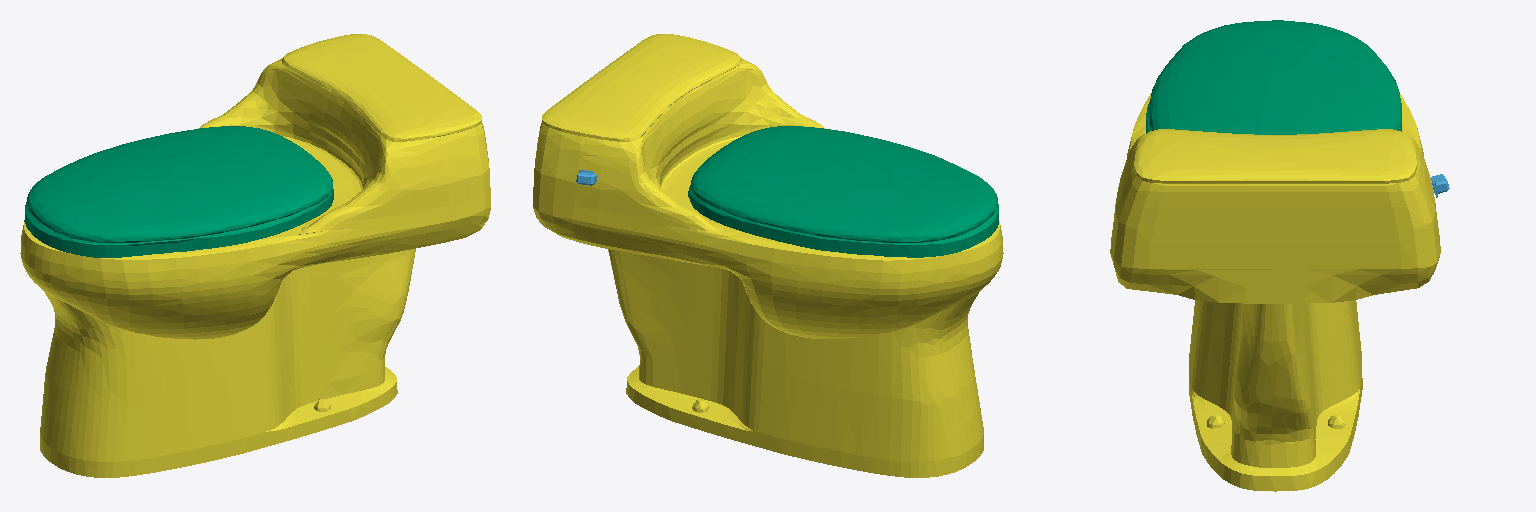
URDF robot description (partnet_8c511b8efe2347c83321831d2245cf06):
<robot name="partnet_8c511b8efe2347c83321831d2245cf06">
	<link name="base" />
	<link name="link_0">
		<collision>
			<origin xyz="0.03907445210681367 -0.192080672073679 0.5854682924927025" />
			<geometry>
				<mesh filename="new_objs/102666_link_0_4.obj" />
			</geometry>
		</collision>
	<collision>
			<origin xyz="0.03907445210681367 -0.192080672073679 0.5854682924927025" />
			<geometry>
				<mesh filename="new_objs/102666_link_0_3.obj" />
			</geometry>
		</collision>
	<collision>
			<origin xyz="0.03907445210681367 -0.192080672073679 0.5854682924927025" />
			<geometry>
				<mesh filename="new_objs/102666_link_0_1.obj" />
			</geometry>
		</collision>
	<collision>
			<origin xyz="0.03907445210681367 -0.192080672073679 0.5854682924927025" />
			<geometry>
				<mesh filename="new_objs/102666_link_0_0.obj" />
			</geometry>
		</collision>
	<collision>
			<origin xyz="0.03907445210681367 -0.192080672073679 0.5854682924927025" />
			<geometry>
				<mesh filename="new_objs/102666_link_0_2.obj" />
			</geometry>
		</collision>
	<visual name="button-part[&quot;id]">
			<origin xyz="0.03907445210681367 -0.192080672073679 0.5854682924927025" />
			<geometry>
				<mesh filename="textured_objs/original-6.obj" />
			</geometry>
		</visual>
		</link>
	<joint name="joint_0" type="revolute">
		<origin xyz="-0.03907445210681367 0.192080672073679 -0.5854682924927025" />
		<axis xyz="0.9398329998883672 -0.3010537654331707 -0.16149477588870217" />
		<child link="link_0" />
		<parent link="link_2" />
		<limit lower="0.0" upper="1.710422666954443" />
	</joint>
	<link name="link_1">
		<collision>
			<origin xyz="0 -0.23803463321864132 0.25666695559583574" />
			<geometry>
				<mesh filename="new_objs/102666_link_1_8.obj" />
			</geometry>
		</collision>
	<collision>
			<origin xyz="0 -0.23803463321864132 0.25666695559583574" />
			<geometry>
				<mesh filename="new_objs/102666_link_1_36.obj" />
			</geometry>
		</collision>
	<collision>
			<origin xyz="0 -0.23803463321864132 0.25666695559583574" />
			<geometry>
				<mesh filename="new_objs/102666_link_1_1.obj" />
			</geometry>
		</collision>
	<collision>
			<origin xyz="0 -0.23803463321864132 0.25666695559583574" />
			<geometry>
				<mesh filename="new_objs/102666_link_1_52.obj" />
			</geometry>
		</collision>
	<collision>
			<origin xyz="0 -0.23803463321864132 0.25666695559583574" />
			<geometry>
				<mesh filename="new_objs/102666_link_1_2.obj" />
			</geometry>
		</collision>
	<collision>
			<origin xyz="0 -0.23803463321864132 0.25666695559583574" />
			<geometry>
				<mesh filename="new_objs/102666_link_1_51.obj" />
			</geometry>
		</collision>
	<collision>
			<origin xyz="0 -0.23803463321864132 0.25666695559583574" />
			<geometry>
				<mesh filename="new_objs/102666_link_1_34.obj" />
			</geometry>
		</collision>
	<collision>
			<origin xyz="0 -0.23803463321864132 0.25666695559583574" />
			<geometry>
				<mesh filename="new_objs/102666_link_1_15.obj" />
			</geometry>
		</collision>
	<collision>
			<origin xyz="0 -0.23803463321864132 0.25666695559583574" />
			<geometry>
				<mesh filename="new_objs/102666_link_1_31.obj" />
			</geometry>
		</collision>
	<collision>
			<origin xyz="0 -0.23803463321864132 0.25666695559583574" />
			<geometry>
				<mesh filename="new_objs/102666_link_1_19.obj" />
			</geometry>
		</collision>
	<collision>
			<origin xyz="0 -0.23803463321864132 0.25666695559583574" />
			<geometry>
				<mesh filename="new_objs/102666_link_1_12.obj" />
			</geometry>
		</collision>
	<collision>
			<origin xyz="0 -0.23803463321864132 0.25666695559583574" />
			<geometry>
				<mesh filename="new_objs/102666_link_1_41.obj" />
			</geometry>
		</collision>
	<collision>
			<origin xyz="0 -0.23803463321864132 0.25666695559583574" />
			<geometry>
				<mesh filename="new_objs/102666_link_1_17.obj" />
			</geometry>
		</collision>
	<collision>
			<origin xyz="0 -0.23803463321864132 0.25666695559583574" />
			<geometry>
				<mesh filename="new_objs/102666_link_1_14.obj" />
			</geometry>
		</collision>
	<collision>
			<origin xyz="0 -0.23803463321864132 0.25666695559583574" />
			<geometry>
				<mesh filename="new_objs/102666_link_1_38.obj" />
			</geometry>
		</collision>
	<collision>
			<origin xyz="0 -0.23803463321864132 0.25666695559583574" />
			<geometry>
				<mesh filename="new_objs/102666_link_1_47.obj" />
			</geometry>
		</collision>
	<collision>
			<origin xyz="0 -0.23803463321864132 0.25666695559583574" />
			<geometry>
				<mesh filename="new_objs/102666_link_1_48.obj" />
			</geometry>
		</collision>
	<collision>
			<origin xyz="0 -0.23803463321864132 0.25666695559583574" />
			<geometry>
				<mesh filename="new_objs/102666_link_1_20.obj" />
			</geometry>
		</collision>
	<collision>
			<origin xyz="0 -0.23803463321864132 0.25666695559583574" />
			<geometry>
				<mesh filename="new_objs/102666_link_1_35.obj" />
			</geometry>
		</collision>
	<collision>
			<origin xyz="0 -0.23803463321864132 0.25666695559583574" />
			<geometry>
				<mesh filename="new_objs/102666_link_1_32.obj" />
			</geometry>
		</collision>
	<collision>
			<origin xyz="0 -0.23803463321864132 0.25666695559583574" />
			<geometry>
				<mesh filename="new_objs/102666_link_1_29.obj" />
			</geometry>
		</collision>
	<collision>
			<origin xyz="0 -0.23803463321864132 0.25666695559583574" />
			<geometry>
				<mesh filename="new_objs/102666_link_1_24.obj" />
			</geometry>
		</collision>
	<collision>
			<origin xyz="0 -0.23803463321864132 0.25666695559583574" />
			<geometry>
				<mesh filename="new_objs/102666_link_1_16.obj" />
			</geometry>
		</collision>
	<collision>
			<origin xyz="0 -0.23803463321864132 0.25666695559583574" />
			<geometry>
				<mesh filename="new_objs/102666_link_1_11.obj" />
			</geometry>
		</collision>
	<collision>
			<origin xyz="0 -0.23803463321864132 0.25666695559583574" />
			<geometry>
				<mesh filename="new_objs/102666_link_1_40.obj" />
			</geometry>
		</collision>
	<collision>
			<origin xyz="0 -0.23803463321864132 0.25666695559583574" />
			<geometry>
				<mesh filename="new_objs/102666_link_1_53.obj" />
			</geometry>
		</collision>
	<collision>
			<origin xyz="0 -0.23803463321864132 0.25666695559583574" />
			<geometry>
				<mesh filename="new_objs/102666_link_1_4.obj" />
			</geometry>
		</collision>
	<collision>
			<origin xyz="0 -0.23803463321864132 0.25666695559583574" />
			<geometry>
				<mesh filename="new_objs/102666_link_1_22.obj" />
			</geometry>
		</collision>
	<collision>
			<origin xyz="0 -0.23803463321864132 0.25666695559583574" />
			<geometry>
				<mesh filename="new_objs/102666_link_1_0.obj" />
			</geometry>
		</collision>
	<collision>
			<origin xyz="0 -0.23803463321864132 0.25666695559583574" />
			<geometry>
				<mesh filename="new_objs/102666_link_1_13.obj" />
			</geometry>
		</collision>
	<collision>
			<origin xyz="0 -0.23803463321864132 0.25666695559583574" />
			<geometry>
				<mesh filename="new_objs/102666_link_1_46.obj" />
			</geometry>
		</collision>
	<collision>
			<origin xyz="0 -0.23803463321864132 0.25666695559583574" />
			<geometry>
				<mesh filename="new_objs/102666_link_1_43.obj" />
			</geometry>
		</collision>
	<collision>
			<origin xyz="0 -0.23803463321864132 0.25666695559583574" />
			<geometry>
				<mesh filename="new_objs/102666_link_1_33.obj" />
			</geometry>
		</collision>
	<collision>
			<origin xyz="0 -0.23803463321864132 0.25666695559583574" />
			<geometry>
				<mesh filename="new_objs/102666_link_1_6.obj" />
			</geometry>
		</collision>
	<collision>
			<origin xyz="0 -0.23803463321864132 0.25666695559583574" />
			<geometry>
				<mesh filename="new_objs/102666_link_1_27.obj" />
			</geometry>
		</collision>
	<collision>
			<origin xyz="0 -0.23803463321864132 0.25666695559583574" />
			<geometry>
				<mesh filename="new_objs/102666_link_1_5.obj" />
			</geometry>
		</collision>
	<collision>
			<origin xyz="0 -0.23803463321864132 0.25666695559583574" />
			<geometry>
				<mesh filename="new_objs/102666_link_1_10.obj" />
			</geometry>
		</collision>
	<collision>
			<origin xyz="0 -0.23803463321864132 0.25666695559583574" />
			<geometry>
				<mesh filename="new_objs/102666_link_1_7.obj" />
			</geometry>
		</collision>
	<collision>
			<origin xyz="0 -0.23803463321864132 0.25666695559583574" />
			<geometry>
				<mesh filename="new_objs/102666_link_1_28.obj" />
			</geometry>
		</collision>
	<collision>
			<origin xyz="0 -0.23803463321864132 0.25666695559583574" />
			<geometry>
				<mesh filename="new_objs/102666_link_1_44.obj" />
			</geometry>
		</collision>
	<collision>
			<origin xyz="0 -0.23803463321864132 0.25666695559583574" />
			<geometry>
				<mesh filename="new_objs/102666_link_1_49.obj" />
			</geometry>
		</collision>
	<collision>
			<origin xyz="0 -0.23803463321864132 0.25666695559583574" />
			<geometry>
				<mesh filename="new_objs/102666_link_1_50.obj" />
			</geometry>
		</collision>
	<collision>
			<origin xyz="0 -0.23803463321864132 0.25666695559583574" />
			<geometry>
				<mesh filename="new_objs/102666_link_1_18.obj" />
			</geometry>
		</collision>
	<collision>
			<origin xyz="0 -0.23803463321864132 0.25666695559583574" />
			<geometry>
				<mesh filename="new_objs/102666_link_1_23.obj" />
			</geometry>
		</collision>
	<collision>
			<origin xyz="0 -0.23803463321864132 0.25666695559583574" />
			<geometry>
				<mesh filename="new_objs/102666_link_1_9.obj" />
			</geometry>
		</collision>
	<collision>
			<origin xyz="0 -0.23803463321864132 0.25666695559583574" />
			<geometry>
				<mesh filename="new_objs/102666_link_1_54.obj" />
			</geometry>
		</collision>
	<collision>
			<origin xyz="0 -0.23803463321864132 0.25666695559583574" />
			<geometry>
				<mesh filename="new_objs/102666_link_1_21.obj" />
			</geometry>
		</collision>
	<collision>
			<origin xyz="0 -0.23803463321864132 0.25666695559583574" />
			<geometry>
				<mesh filename="new_objs/102666_link_1_3.obj" />
			</geometry>
		</collision>
	<collision>
			<origin xyz="0 -0.23803463321864132 0.25666695559583574" />
			<geometry>
				<mesh filename="new_objs/102666_link_1_25.obj" />
			</geometry>
		</collision>
	<collision>
			<origin xyz="0 -0.23803463321864132 0.25666695559583574" />
			<geometry>
				<mesh filename="new_objs/102666_link_1_45.obj" />
			</geometry>
		</collision>
	<collision>
			<origin xyz="0 -0.23803463321864132 0.25666695559583574" />
			<geometry>
				<mesh filename="new_objs/102666_link_1_30.obj" />
			</geometry>
		</collision>
	<collision>
			<origin xyz="0 -0.23803463321864132 0.25666695559583574" />
			<geometry>
				<mesh filename="new_objs/102666_link_1_39.obj" />
			</geometry>
		</collision>
	<collision>
			<origin xyz="0 -0.23803463321864132 0.25666695559583574" />
			<geometry>
				<mesh filename="new_objs/102666_link_1_42.obj" />
			</geometry>
		</collision>
	<collision>
			<origin xyz="0 -0.23803463321864132 0.25666695559583574" />
			<geometry>
				<mesh filename="new_objs/102666_link_1_37.obj" />
			</geometry>
		</collision>
	<collision>
			<origin xyz="0 -0.23803463321864132 0.25666695559583574" />
			<geometry>
				<mesh filename="new_objs/102666_link_1_26.obj" />
			</geometry>
		</collision>
	<visual name="lid-part[&quot;id]">
			<origin xyz="0 -0.23803463321864132 0.25666695559583574" />
			<geometry>
				<mesh filename="textured_objs/original-2.obj" />
			</geometry>
		</visual>
		</link>
	<joint name="joint_1" type="revolute">
		<origin xyz="0 0.23803463321864132 -0.25666695559583574" />
		<axis xyz="-1 0 0" />
		<child link="link_1" />
		<parent link="link_2" />
		<limit lower="-0.0" upper="1.5707963267948966" />
	</joint>
	<link name="link_2">
		<collision>
			<origin xyz="0 0 0" />
			<geometry>
				<mesh filename="new_objs/102666_link_2_6.obj" />
			</geometry>
		</collision>
		<collision>
			<origin xyz="0 0 0" />
			<geometry>
				<mesh filename="new_objs/102666_link_2_14.obj" />
			</geometry>
		</collision>
		<collision>
			<origin xyz="0 0 0" />
			<geometry>
				<mesh filename="new_objs/102666_link_2_12.obj" />
			</geometry>
		</collision>
		<collision>
			<origin xyz="0 0 0" />
			<geometry>
				<mesh filename="new_objs/102666_link_2_7.obj" />
			</geometry>
		</collision>
		<collision>
			<origin xyz="0 0 0" />
			<geometry>
				<mesh filename="new_objs/102666_link_2_10.obj" />
			</geometry>
		</collision>
		<collision>
			<origin xyz="0 0 0" />
			<geometry>
				<mesh filename="new_objs/102666_link_2_37.obj" />
			</geometry>
		</collision>
		<collision>
			<origin xyz="0 0 0" />
			<geometry>
				<mesh filename="new_objs/102666_link_2_20.obj" />
			</geometry>
		</collision>
		<collision>
			<origin xyz="0 0 0" />
			<geometry>
				<mesh filename="new_objs/102666_link_2_36.obj" />
			</geometry>
		</collision>
		<collision>
			<origin xyz="0 0 0" />
			<geometry>
				<mesh filename="new_objs/102666_link_2_4.obj" />
			</geometry>
		</collision>
		<collision>
			<origin xyz="0 0 0" />
			<geometry>
				<mesh filename="new_objs/102666_link_2_35.obj" />
			</geometry>
		</collision>
		<collision>
			<origin xyz="0 0 0" />
			<geometry>
				<mesh filename="new_objs/102666_link_2_18.obj" />
			</geometry>
		</collision>
		<collision>
			<origin xyz="0 0 0" />
			<geometry>
				<mesh filename="new_objs/102666_link_2_31.obj" />
			</geometry>
		</collision>
		<collision>
			<origin xyz="0 0 0" />
			<geometry>
				<mesh filename="new_objs/102666_link_2_11.obj" />
			</geometry>
		</collision>
		<collision>
			<origin xyz="0 0 0" />
			<geometry>
				<mesh filename="new_objs/102666_link_2_22.obj" />
			</geometry>
		</collision>
		<collision>
			<origin xyz="0 0 0" />
			<geometry>
				<mesh filename="new_objs/102666_link_2_27.obj" />
			</geometry>
		</collision>
		<collision>
			<origin xyz="0 0 0" />
			<geometry>
				<mesh filename="new_objs/102666_link_2_19.obj" />
			</geometry>
		</collision>
		<collision>
			<origin xyz="0 0 0" />
			<geometry>
				<mesh filename="new_objs/102666_link_2_34.obj" />
			</geometry>
		</collision>
		<collision>
			<origin xyz="0 0 0" />
			<geometry>
				<mesh filename="new_objs/102666_link_2_17.obj" />
			</geometry>
		</collision>
		<collision>
			<origin xyz="0 0 0" />
			<geometry>
				<mesh filename="new_objs/102666_link_2_16.obj" />
			</geometry>
		</collision>
		<collision>
			<origin xyz="0 0 0" />
			<geometry>
				<mesh filename="new_objs/102666_link_2_32.obj" />
			</geometry>
		</collision>
		<collision>
			<origin xyz="0 0 0" />
			<geometry>
				<mesh filename="new_objs/102666_link_2_2.obj" />
			</geometry>
		</collision>
		<collision>
			<origin xyz="0 0 0" />
			<geometry>
				<mesh filename="new_objs/102666_link_2_0.obj" />
			</geometry>
		</collision>
		<collision>
			<origin xyz="0 0 0" />
			<geometry>
				<mesh filename="new_objs/102666_link_2_39.obj" />
			</geometry>
		</collision>
		<collision>
			<origin xyz="0 0 0" />
			<geometry>
				<mesh filename="new_objs/102666_link_2_24.obj" />
			</geometry>
		</collision>
		<collision>
			<origin xyz="0 0 0" />
			<geometry>
				<mesh filename="new_objs/102666_link_2_3.obj" />
			</geometry>
		</collision>
		<collision>
			<origin xyz="0 0 0" />
			<geometry>
				<mesh filename="new_objs/102666_link_2_1.obj" />
			</geometry>
		</collision>
		<collision>
			<origin xyz="0 0 0" />
			<geometry>
				<mesh filename="new_objs/102666_link_2_25.obj" />
			</geometry>
		</collision>
		<collision>
			<origin xyz="0 0 0" />
			<geometry>
				<mesh filename="new_objs/102666_link_2_13.obj" />
			</geometry>
		</collision>
		<collision>
			<origin xyz="0 0 0" />
			<geometry>
				<mesh filename="new_objs/102666_link_2_29.obj" />
			</geometry>
		</collision>
		<collision>
			<origin xyz="0 0 0" />
			<geometry>
				<mesh filename="new_objs/102666_link_2_21.obj" />
			</geometry>
		</collision>
		<collision>
			<origin xyz="0 0 0" />
			<geometry>
				<mesh filename="new_objs/102666_link_2_5.obj" />
			</geometry>
		</collision>
		<collision>
			<origin xyz="0 0 0" />
			<geometry>
				<mesh filename="new_objs/102666_link_2_41.obj" />
			</geometry>
		</collision>
		<collision>
			<origin xyz="0 0 0" />
			<geometry>
				<mesh filename="new_objs/102666_link_2_30.obj" />
			</geometry>
		</collision>
		<collision>
			<origin xyz="0 0 0" />
			<geometry>
				<mesh filename="new_objs/102666_link_2_9.obj" />
			</geometry>
		</collision>
		<collision>
			<origin xyz="0 0 0" />
			<geometry>
				<mesh filename="new_objs/102666_link_2_38.obj" />
			</geometry>
		</collision>
		<collision>
			<origin xyz="0 0 0" />
			<geometry>
				<mesh filename="new_objs/102666_link_2_26.obj" />
			</geometry>
		</collision>
		<collision>
			<origin xyz="0 0 0" />
			<geometry>
				<mesh filename="new_objs/102666_link_2_28.obj" />
			</geometry>
		</collision>
		<collision>
			<origin xyz="0 0 0" />
			<geometry>
				<mesh filename="new_objs/102666_link_2_8.obj" />
			</geometry>
		</collision>
		<collision>
			<origin xyz="0 0 0" />
			<geometry>
				<mesh filename="new_objs/102666_link_2_15.obj" />
			</geometry>
		</collision>
		<collision>
			<origin xyz="0 0 0" />
			<geometry>
				<mesh filename="new_objs/102666_link_2_23.obj" />
			</geometry>
		</collision>
		<collision>
			<origin xyz="0 0 0" />
			<geometry>
				<mesh filename="new_objs/102666_link_2_33.obj" />
			</geometry>
		</collision>
		<collision>
			<origin xyz="0 0 0" />
			<geometry>
				<mesh filename="new_objs/102666_link_2_40.obj" />
			</geometry>
		</collision>
		<visual name="base_body-part[&quot;id]">
			<origin xyz="0 0 0" />
			<geometry>
				<mesh filename="textured_objs/original-4.obj" />
			</geometry>
		</visual>
		<visual name="base_body-part[&quot;id]">
			<origin xyz="0 0 0" />
			<geometry>
				<mesh filename="textured_objs/original-3.obj" />
			</geometry>
		</visual>
		<visual name="base_body-part[&quot;id]">
			<origin xyz="0 0 0" />
			<geometry>
				<mesh filename="textured_objs/original-5.obj" />
			</geometry>
		</visual>
		<visual name="base_body-part[&quot;id]">
			<origin xyz="0 0 0" />
			<geometry>
				<mesh filename="textured_objs/original-1.obj" />
			</geometry>
		</visual>
		</link>
	<joint name="joint_2" type="fixed">
		<origin rpy="1.570796326794897 0 -1.570796326794897" xyz="0 0 0" />
		<child link="link_2" />
		<parent link="base" />
	</joint>
</robot>

--- Facts derived from the render (not from the file) ---
Views: 3 orthographic renders of the robot side by side, from view 1: azimuth 30°, elevation 25°; view 2: azimuth 150°, elevation 25°; view 3: azimuth 270°, elevation 25°.
Robot: partnet_8c511b8efe2347c83321831d2245cf06 — 4 links, 3 joints (2 revolute, 1 fixed); root link base; default pose: all joints at 0.
Links seen in each view (by area): view 1: link_2, link_1; view 2: link_2, link_1; view 3: link_2, link_1.
Boxes of the visible links, x1,y1,x2,y2 form: link_2: [20, 34, 490, 477]; link_1: [24, 126, 333, 257]; link_2: [533, 34, 1003, 477]; link_1: [688, 126, 998, 257]; link_2: [1110, 94, 1440, 491]; link_1: [1146, 20, 1401, 134].
Bounding box of the posed robot: 1.66 × 1.08 × 1.19 m (x, y, z).
6 mesh visuals loaded from 6 distinct referenced files (6 OBJ).
